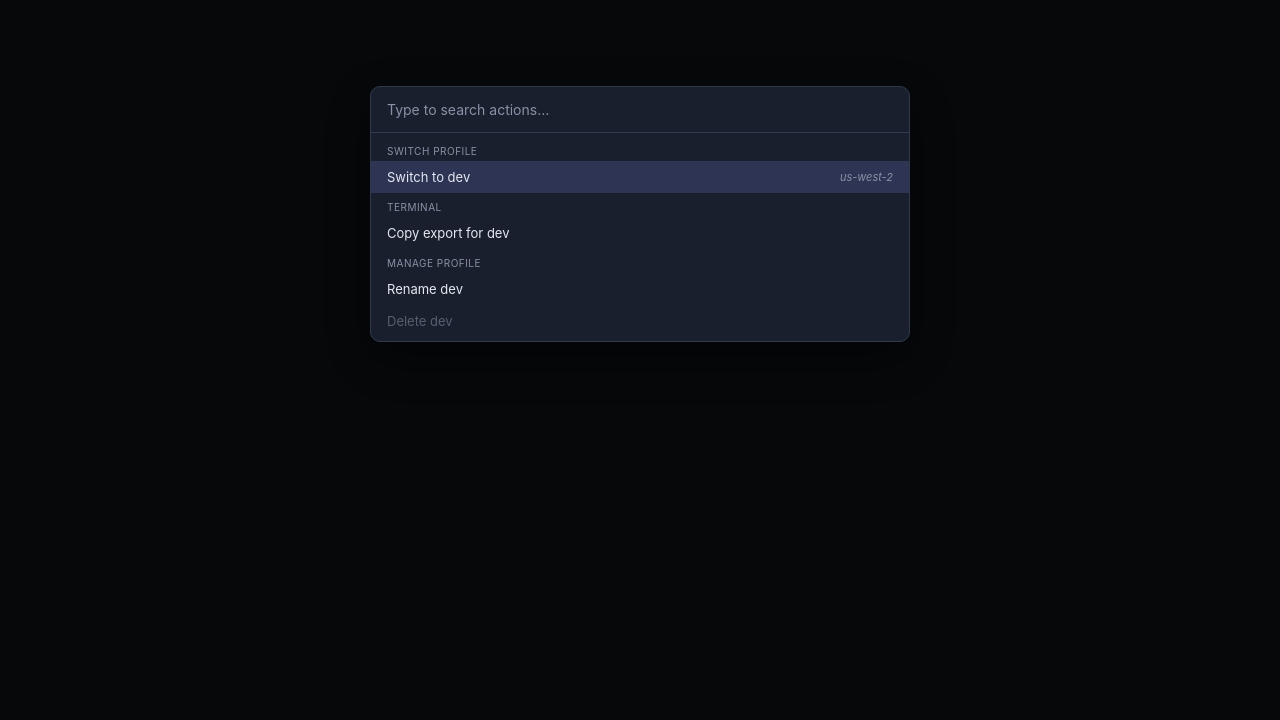
it: CommandPalette › shows empty state when no actions match
Type "nonexistent-term" into the field named "Command palette search" at (640, 110), box [371,87,909,133]
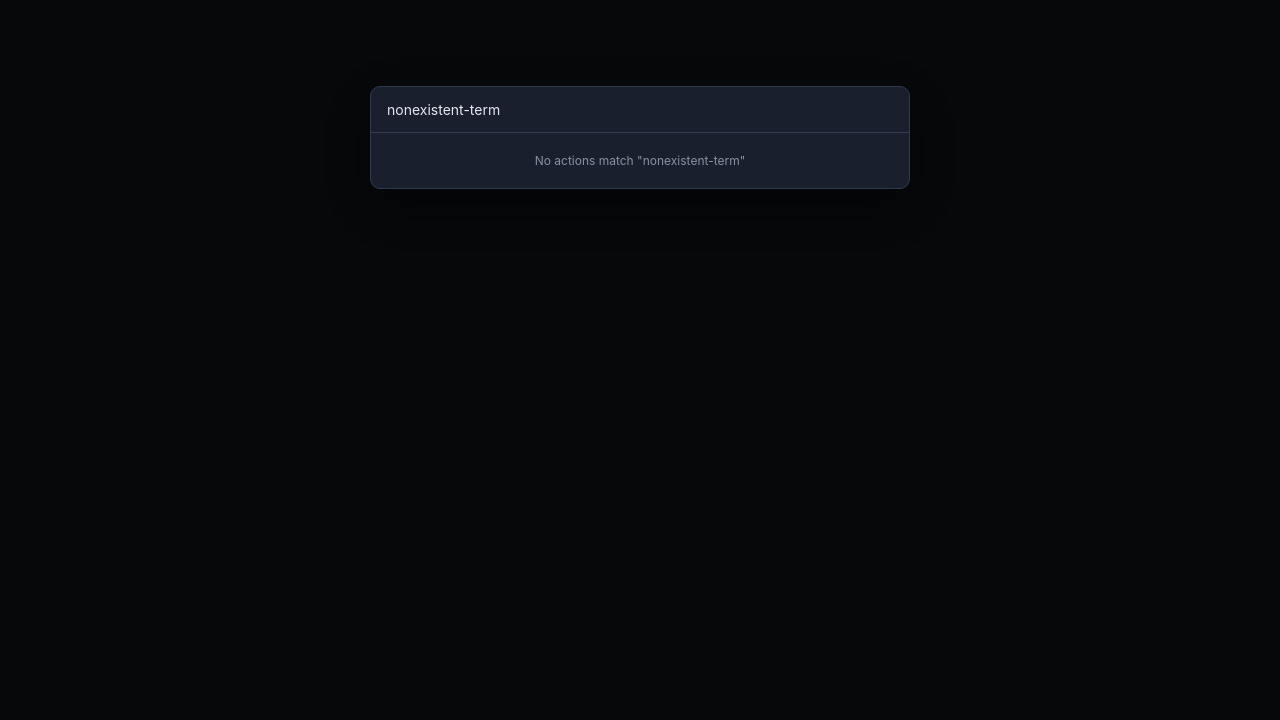
Check: the text "No actions match \"nonexistent-term\"" is shown, box [535,153,745,168]
